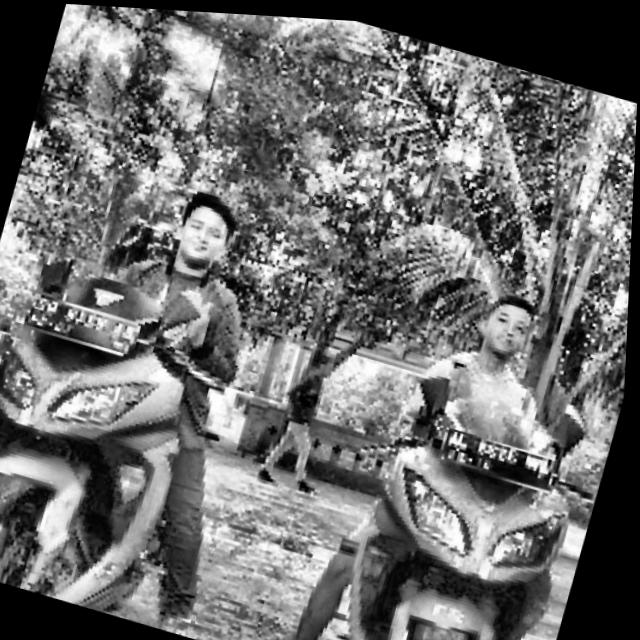motorcycle: (0, 218, 254, 628), (303, 352, 617, 640)
